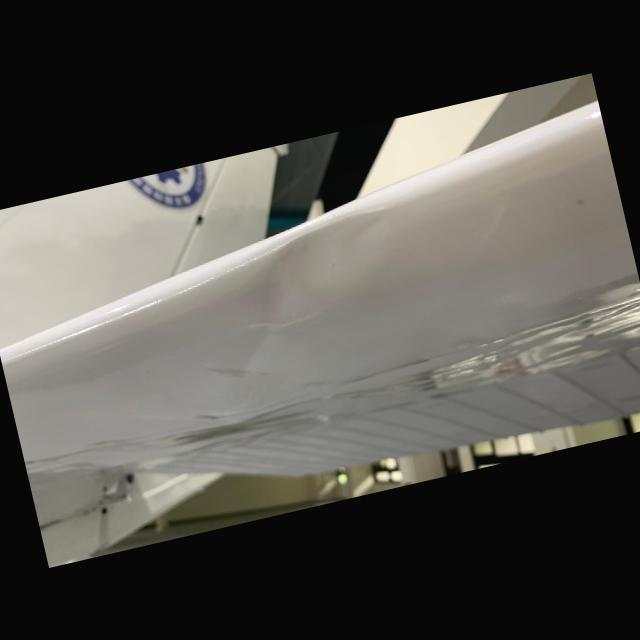dent: (216, 144, 630, 338)
